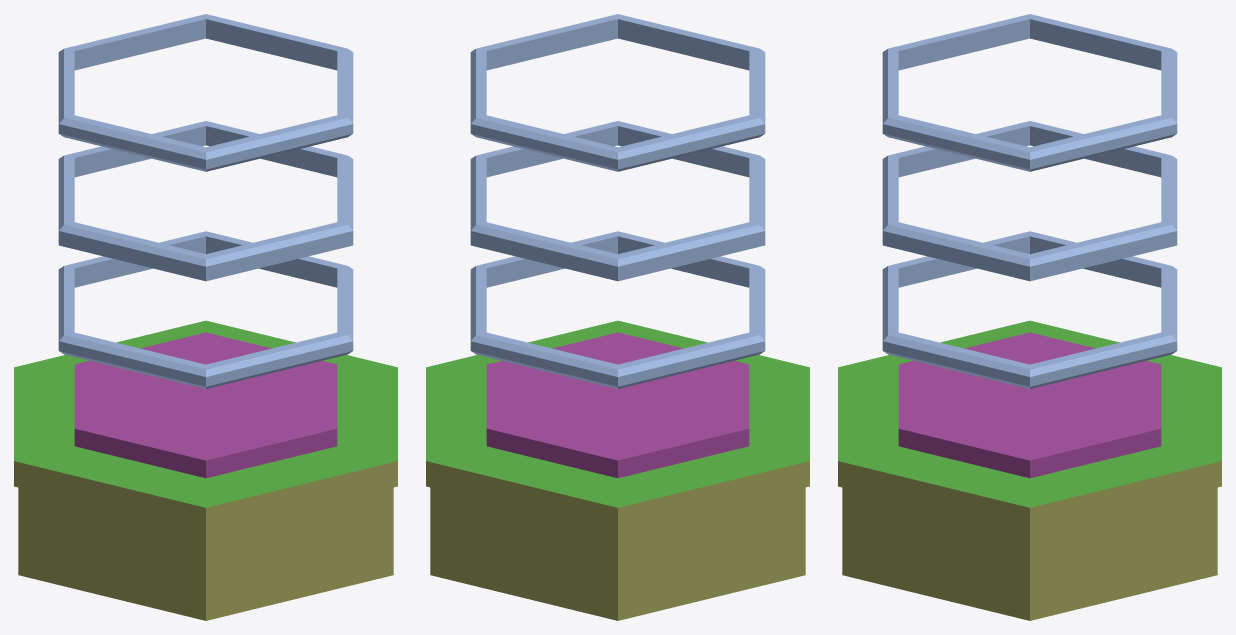
The model's file is Teleporter_Tile.fbx.
3 views of the same model, side by side, from view 1: azimuth 30°, elevation 25°; view 2: azimuth 150°, elevation 25°; view 3: azimuth 270°, elevation 25° (orthographic).
Visible parts, largest first — view 1: polySurface4; view 2: polySurface4; view 3: polySurface4.
Part boxes in pixels (x1,y1,x2,y2): polySurface4: [14, 14, 397, 620]; polySurface4: [426, 14, 809, 620]; polySurface4: [838, 14, 1221, 620].
Bounding box in the file's own units: 9.25 × 10.28 × 8.01.
